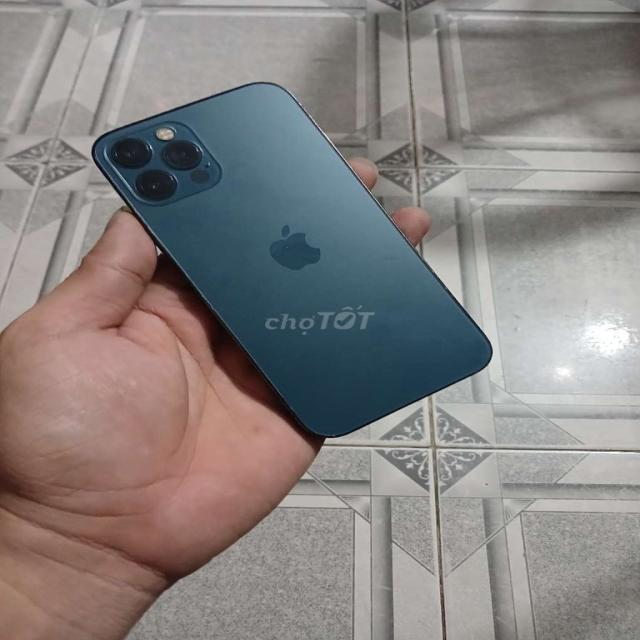gen_12_13: (93, 76, 496, 442)
